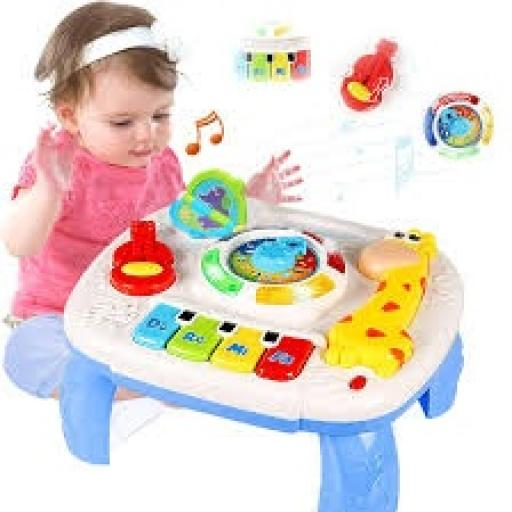baby: (0, 3, 185, 398)
